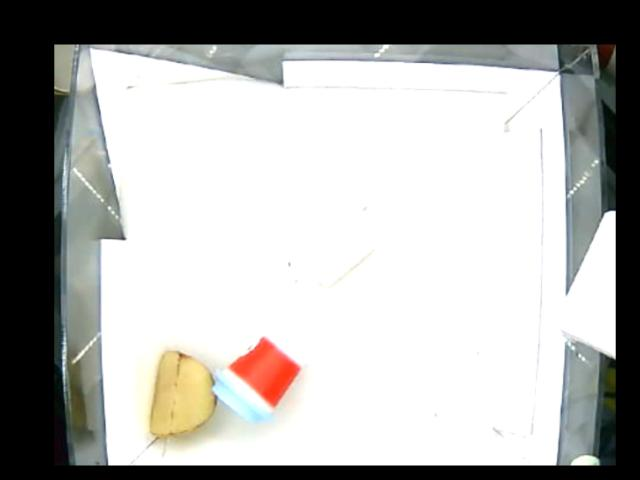China: (285, 201, 374, 295)
Cup: (209, 326, 305, 422)
Potato: (149, 351, 217, 440)
